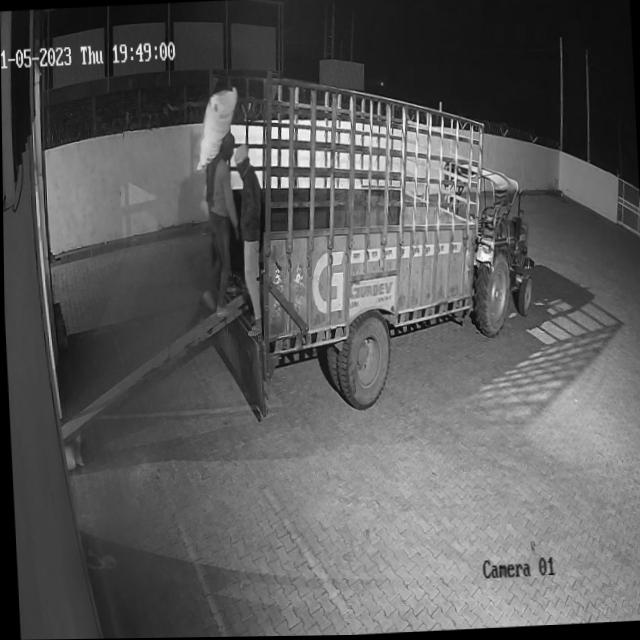sack: (192, 89, 241, 172)
